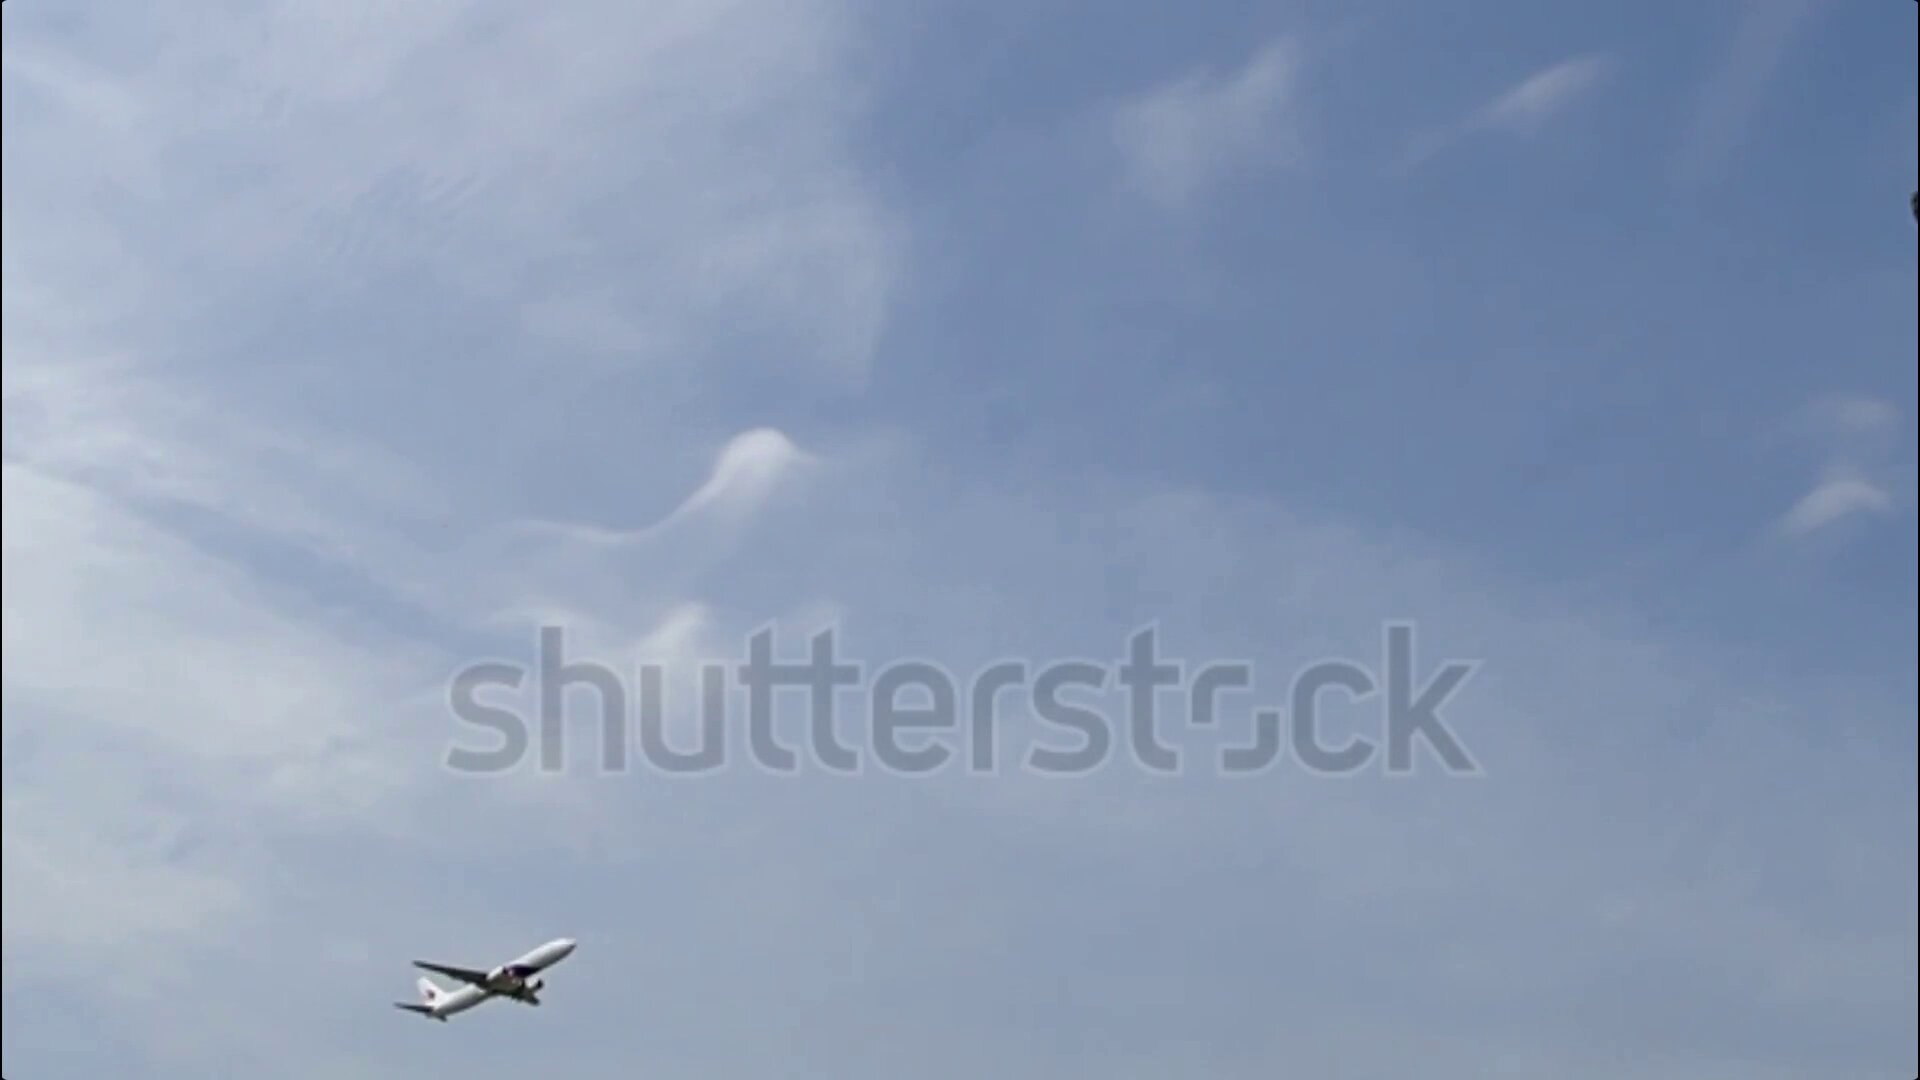airplane: (392, 938, 578, 1029)
